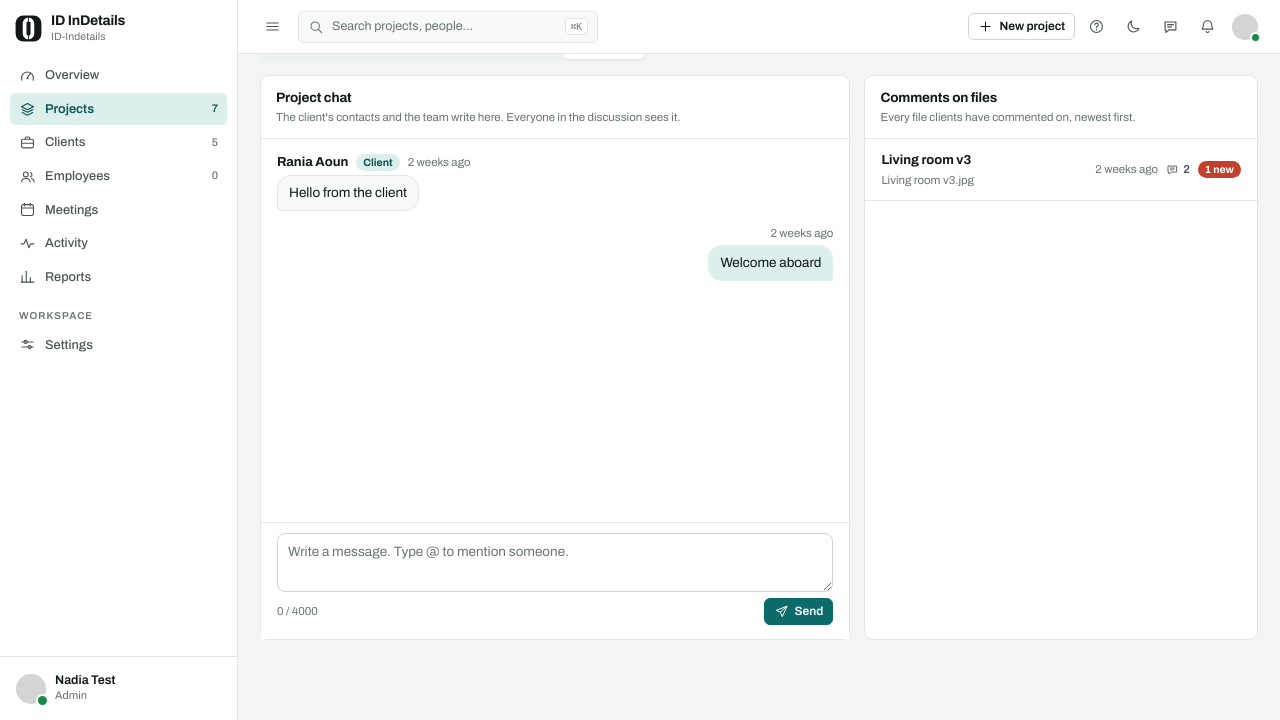
Test: the Discussion part of the Client portal tab › names the client's contacts with @client, and deletes your own message for everyone at the staff address
The image size is (1280, 720).
(page scrolled)
Type "@client " into the dropdown labelled "message" at (555, 563), box left=277, top=533, right=833, bottom=592
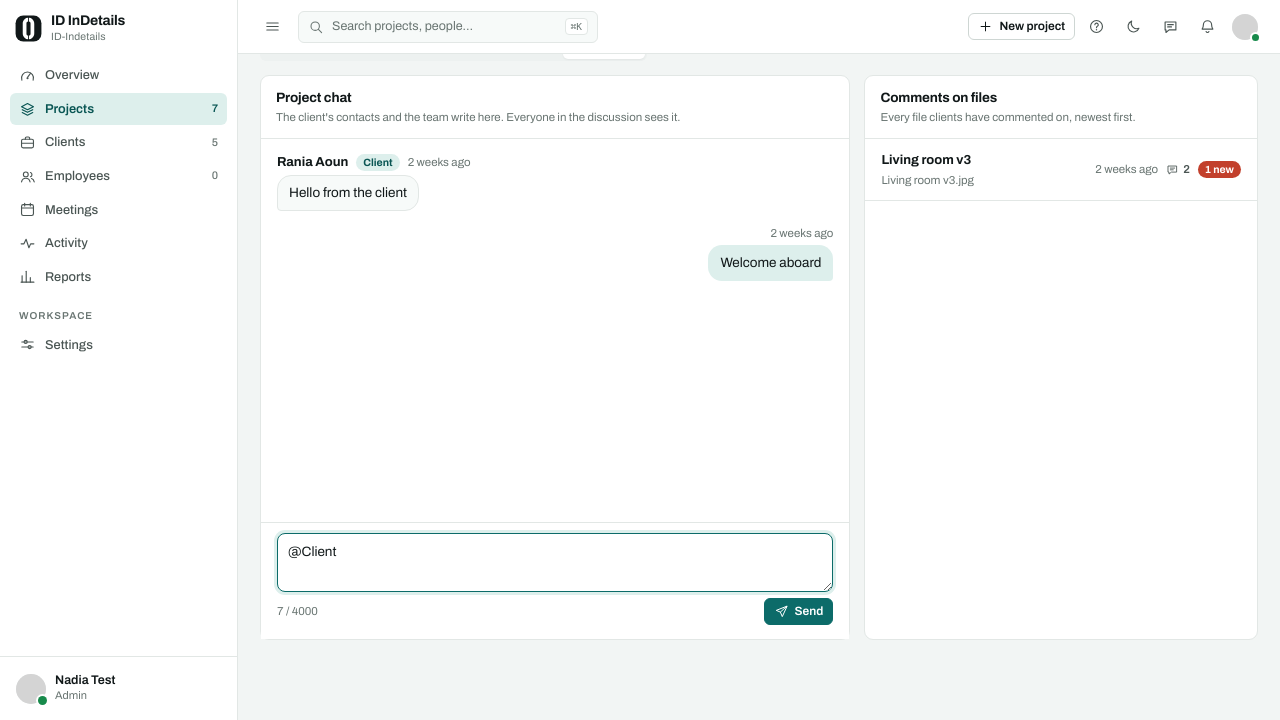
Type "the plans are ready" into the dropdown named "message" at (555, 563), box left=277, top=533, right=833, bottom=592
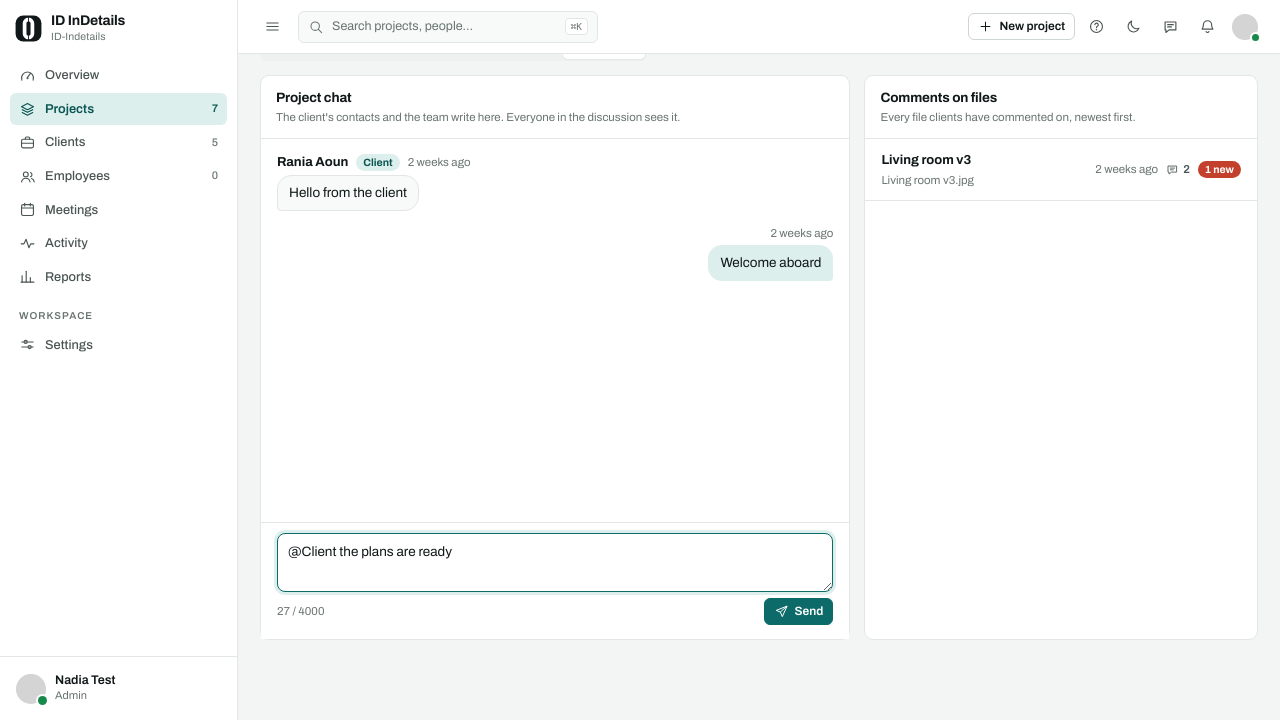
Click the button "Send" at (798, 611), box left=764, top=598, right=833, bottom=625
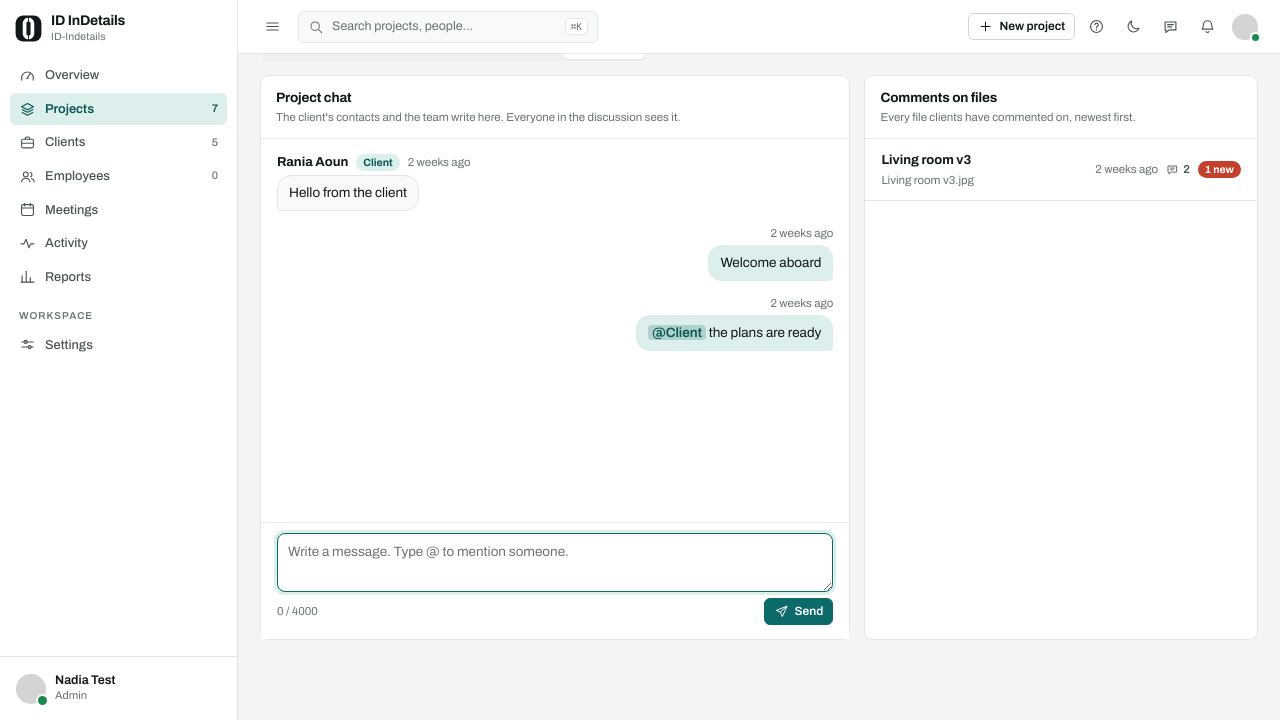
Right-click the text "Welcome aboard" at (771, 263), box left=720, top=253, right=821, bottom=273
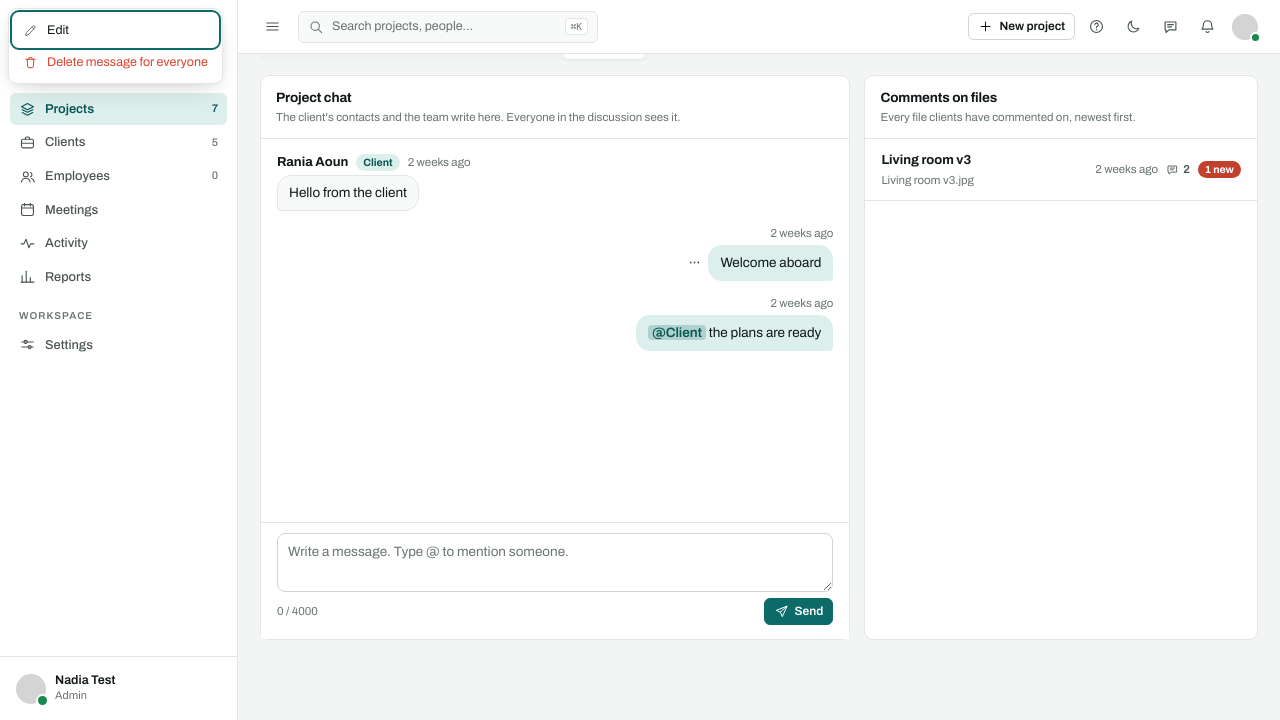
Click the menu item "Delete message for everyone" at (115, 62), box left=14, top=46, right=217, bottom=78
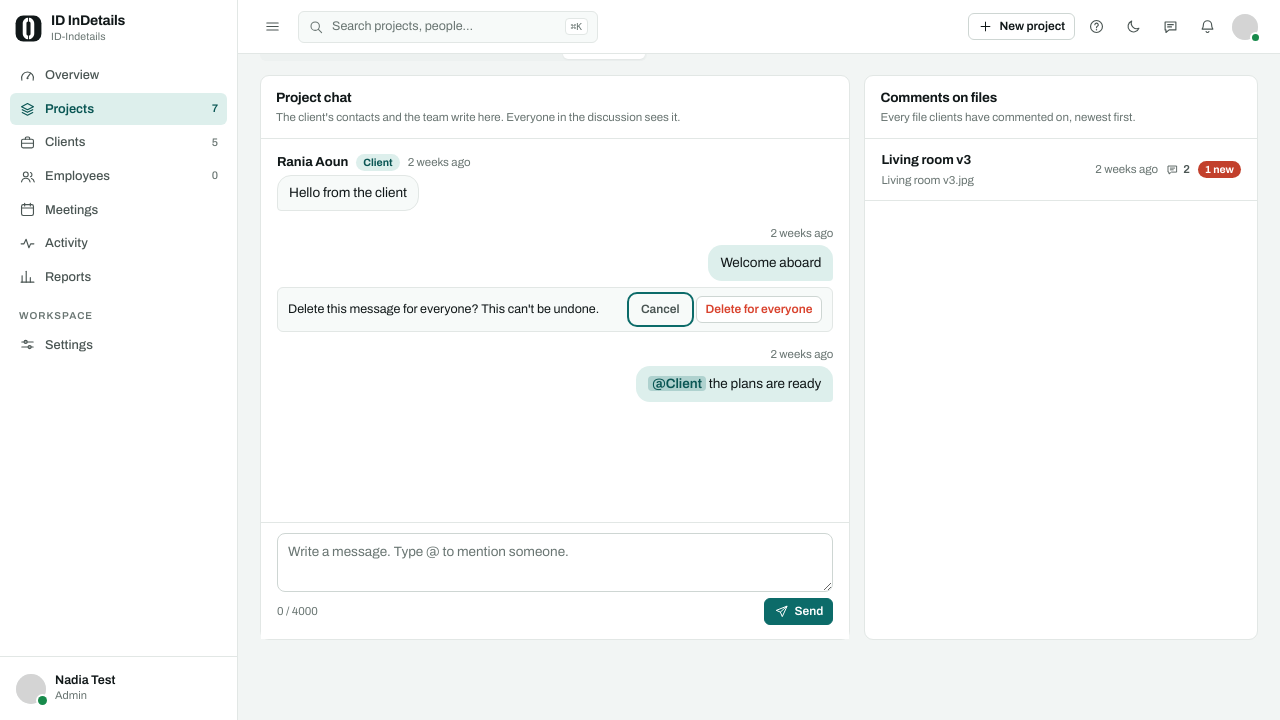
Click the button "Delete for everyone" at (759, 309), box left=696, top=296, right=822, bottom=323
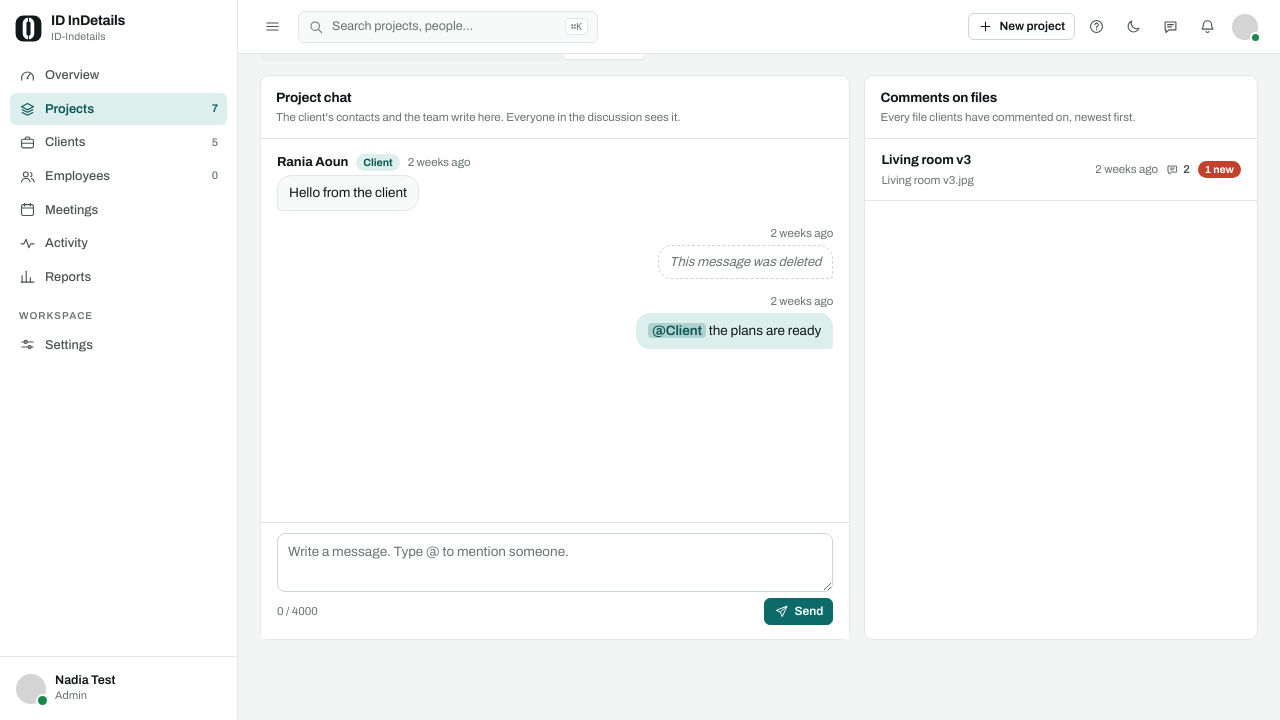
Result: the text "This message was deleted" is shown at left=670, top=253, right=821, bottom=271
